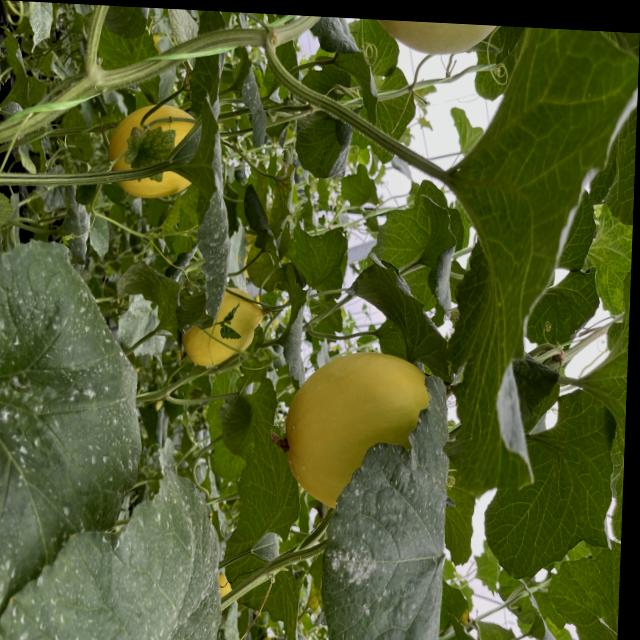downy mildew: (549, 551, 621, 640)
healthy: (436, 24, 640, 507), (575, 252, 631, 545), (273, 269, 308, 399), (293, 217, 352, 289)
powdery mildew: (0, 234, 150, 640), (0, 454, 228, 640), (313, 368, 459, 640), (195, 106, 234, 340), (234, 64, 268, 148)
